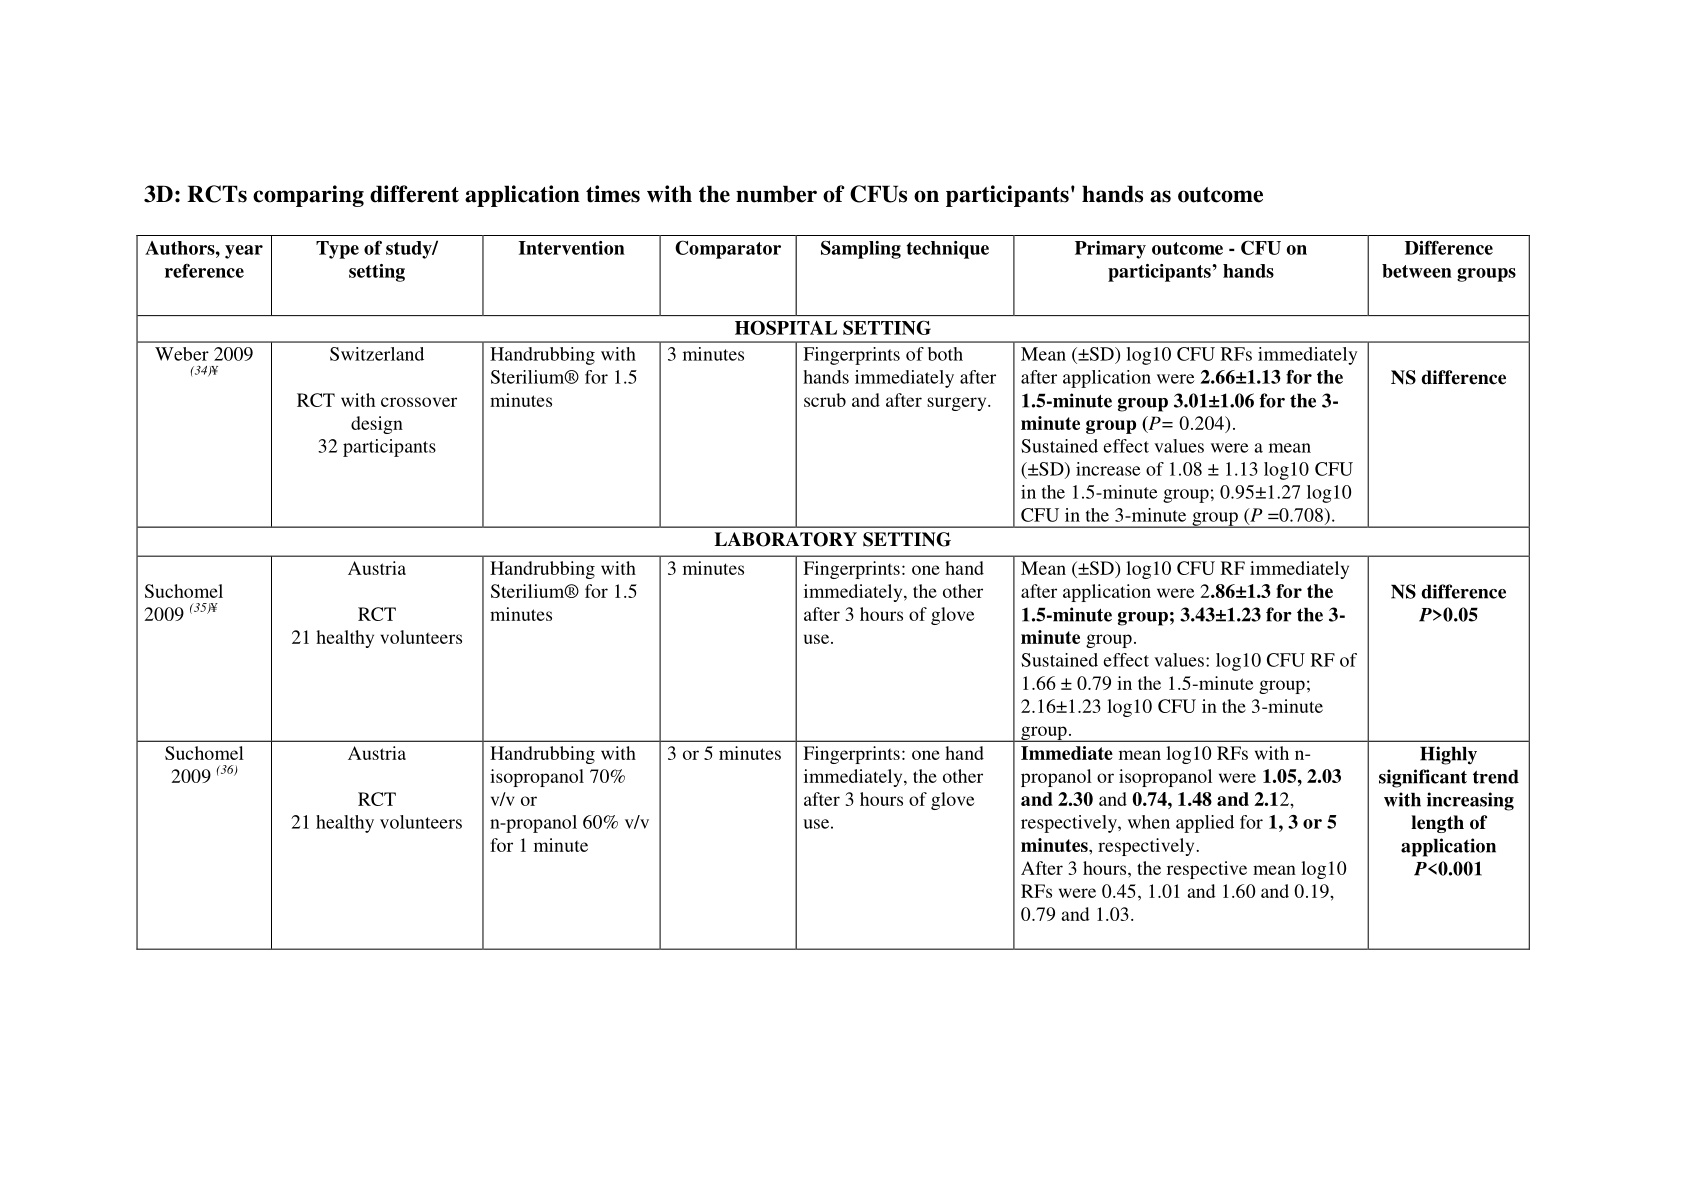merged_cells: (134, 232, 1531, 950)
